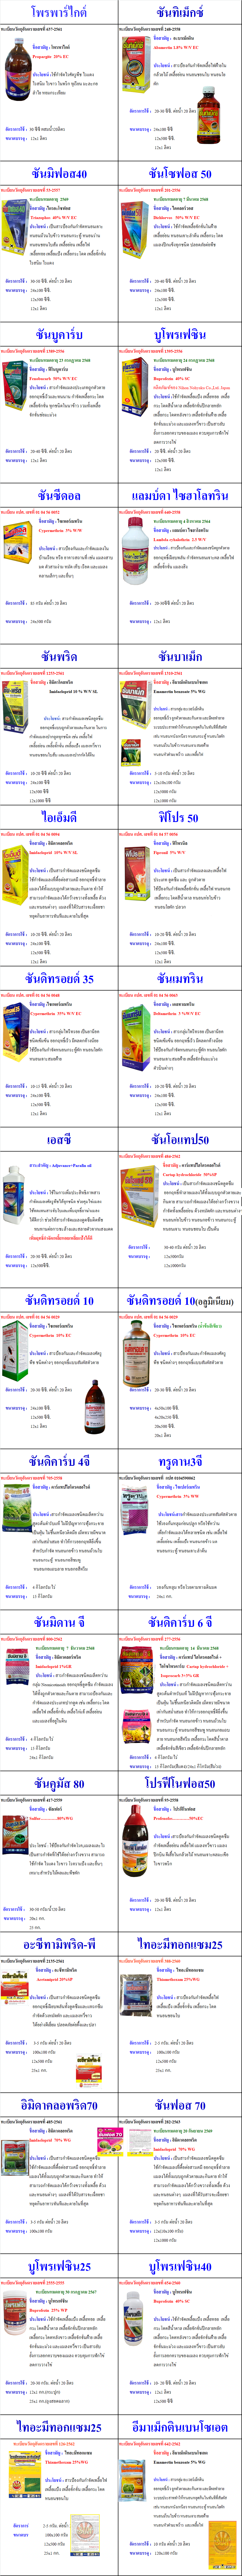Insecticide: (120, 1318, 153, 1390), (122, 1804, 150, 1879), (3, 38, 33, 103), (194, 84, 224, 145), (120, 1485, 151, 1543), (81, 1378, 107, 1437), (122, 2288, 145, 2348), (2, 2288, 28, 2338)
